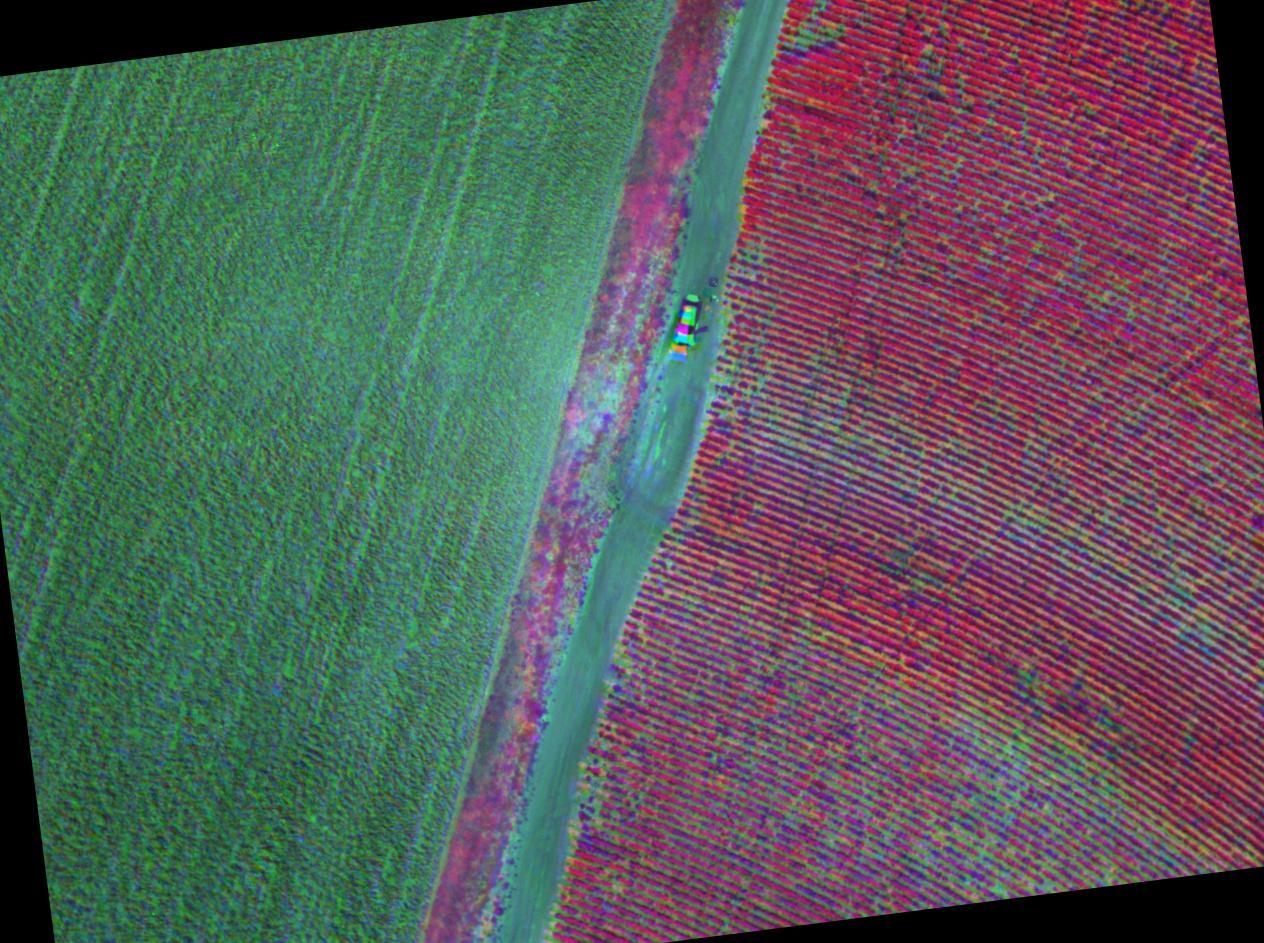dc: (1028, 510, 1033, 515), (1010, 740, 1015, 744), (860, 798, 864, 801), (831, 836, 835, 839), (725, 919, 728, 922)
